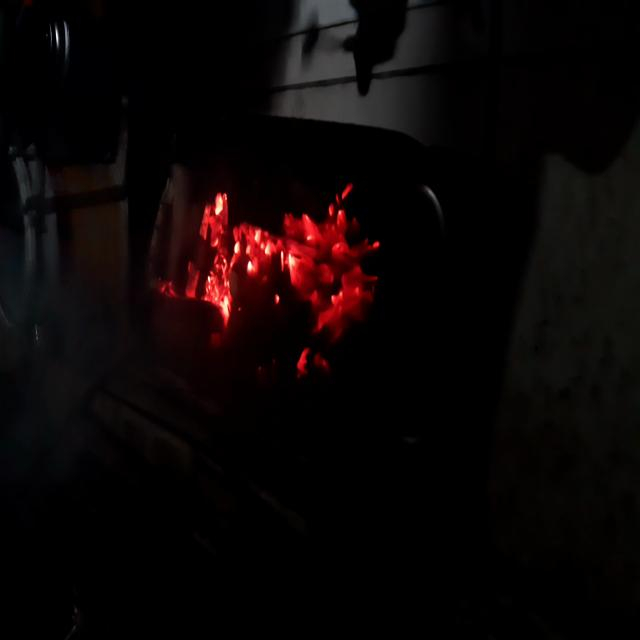Fire: (207, 172, 383, 335)
